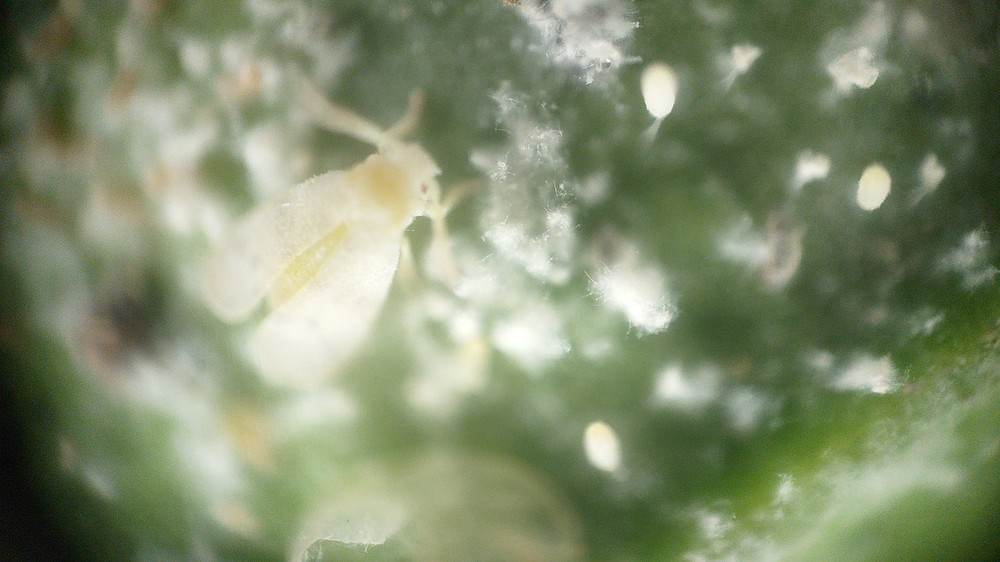Mosca Blanca: (184, 84, 496, 381)
